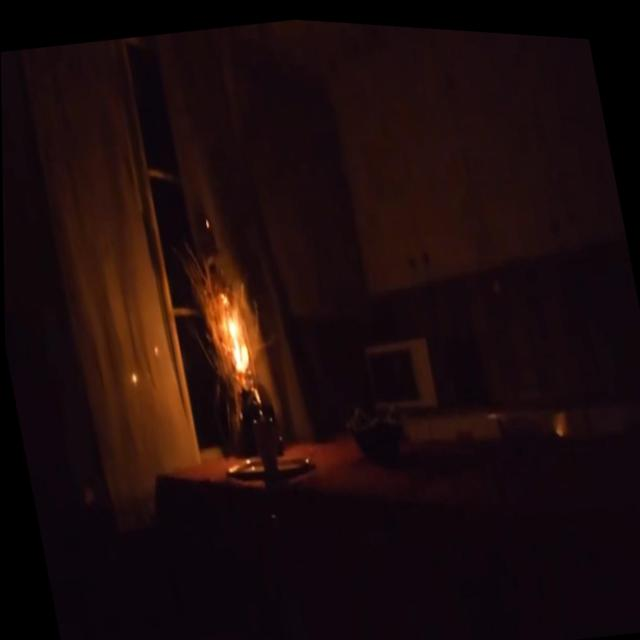fire: (211, 279, 261, 385)
